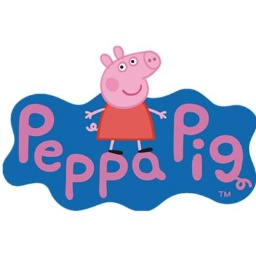Peppa: (83, 45, 169, 154)
